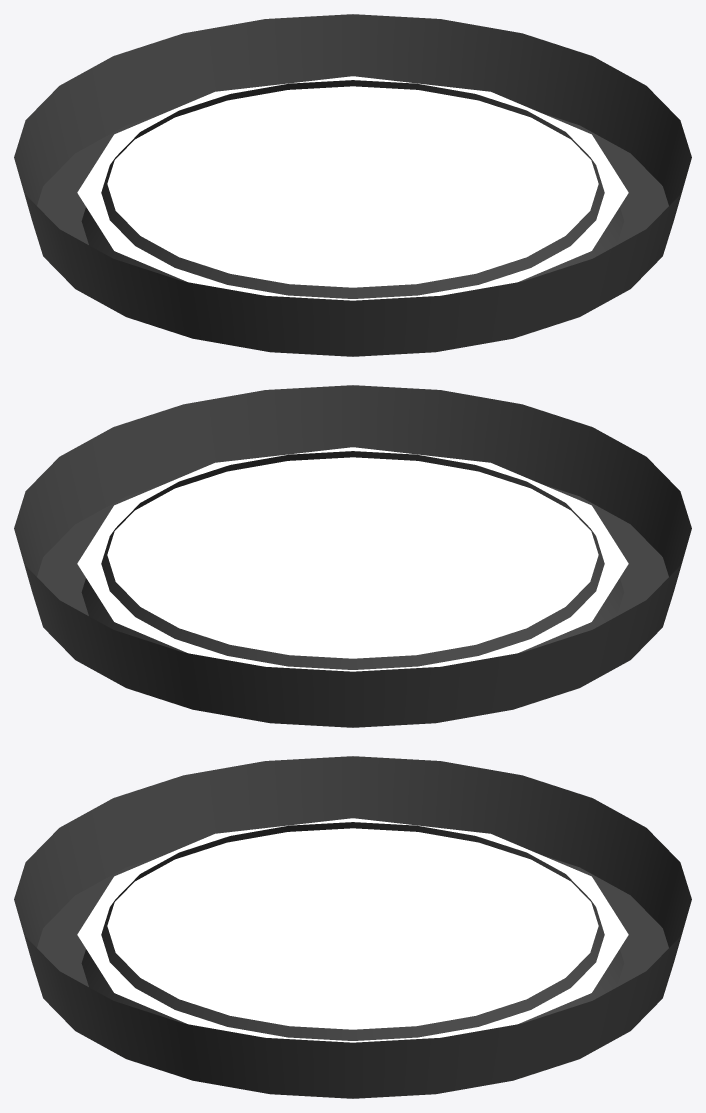
The model's file is Light_Ceiling_Round.fbx.
The picture shows the model from 3 angles, top to bottom: view 1: azimuth 30°, elevation 25°; view 2: azimuth 150°, elevation 25°; view 3: azimuth 270°, elevation 25°; orthographic projection.
Visible parts, largest first — view 1: MSH_Light_Ceiling_Round_B; view 2: MSH_Light_Ceiling_Round_B; view 3: MSH_Light_Ceiling_Round_B.
Boxes of the visible parts, <box> form: MSH_Light_Ceiling_Round_B: <box>14,14,691,356</box>; MSH_Light_Ceiling_Round_B: <box>14,385,691,727</box>; MSH_Light_Ceiling_Round_B: <box>14,756,691,1098</box>.
Bounding box in the file's own units: 11.07 × 1.15 × 11.07.
